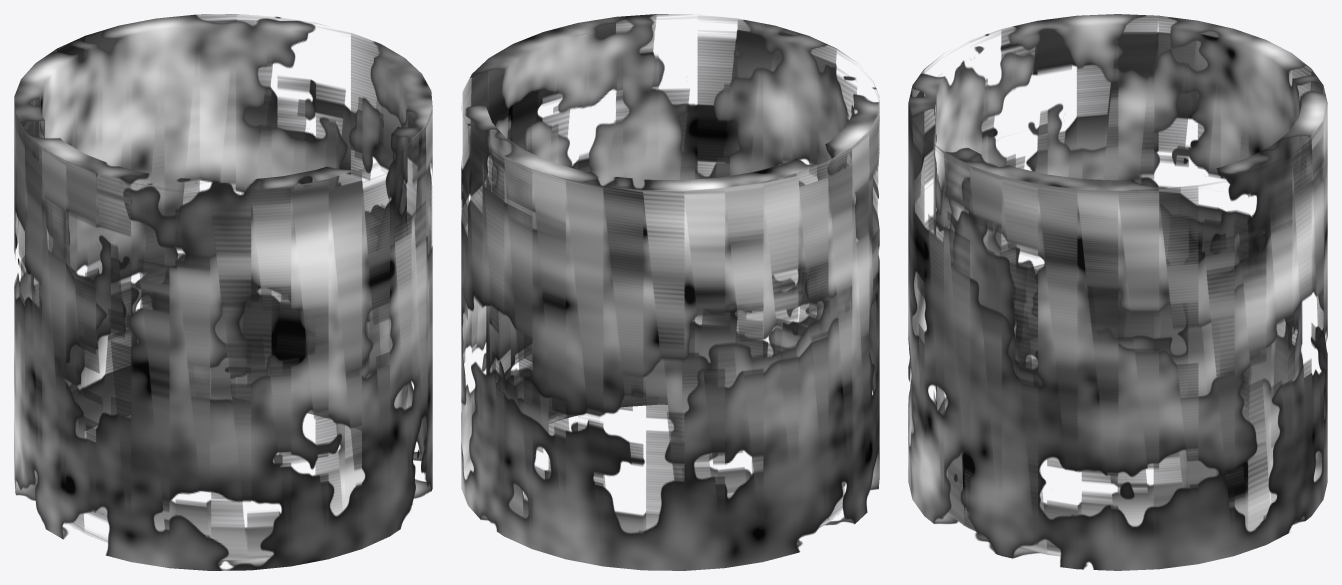
The model's file is newwind.glb.
3 renders of one model, left to right at view 1: azimuth 30°, elevation 25°; view 2: azimuth 150°, elevation 25°; view 3: azimuth 270°, elevation 25°, orthographic.
Visible parts, largest first — view 1: Cylinder; view 2: Cylinder; view 3: Cylinder.
Boxes of the visible parts, box(x1,y1,x2,y2) form: Cylinder: box(14, 14, 432, 570); Cylinder: box(461, 14, 879, 570); Cylinder: box(908, 14, 1327, 570).
Size of the model in its own units: 2 by 2 by 2.
Materials: 1 (1 with a texture image).
